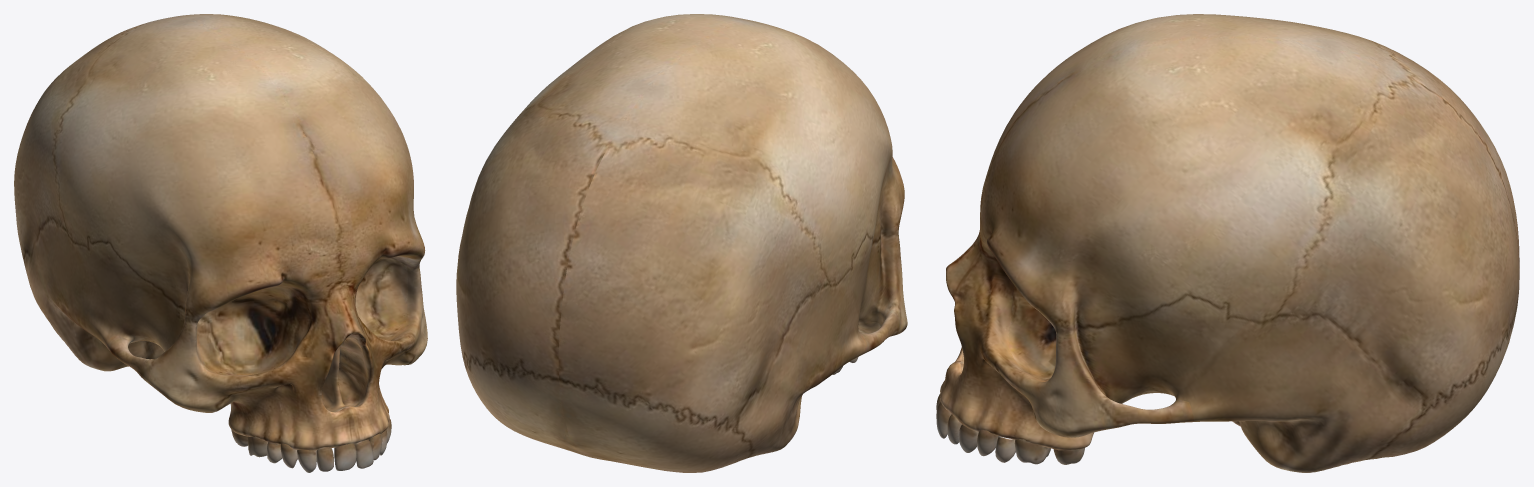
Rendered from caveira.glb.
The picture shows the model from 3 angles, left to right: view 1: azimuth 30°, elevation 25°; view 2: azimuth 150°, elevation 25°; view 3: azimuth 270°, elevation 25°; orthographic projection. The views are drawn at different scales.
Parts seen in each view (by area): view 1: Cranio, 12140_Skull_v3_L2.008, 12140_Skull_v3_L2.001; view 2: Cranio; view 3: Cranio, 12140_Skull_v3_L2.006.
Boxes of the visible parts, x1,y1,x2,y2 form: Cranio: (14,14,427,450); 12140_Skull_v3_L2.008: (334,443,356,470); 12140_Skull_v3_L2.001: (354,439,373,468); Cranio: (456,14,907,472); Cranio: (940,14,1519,472); 12140_Skull_v3_L2.006: (1014,439,1050,464).
Size of the model in its own units: 19.84 by 21.97 by 29.45.
Materials: 1 (1 with a texture image).
